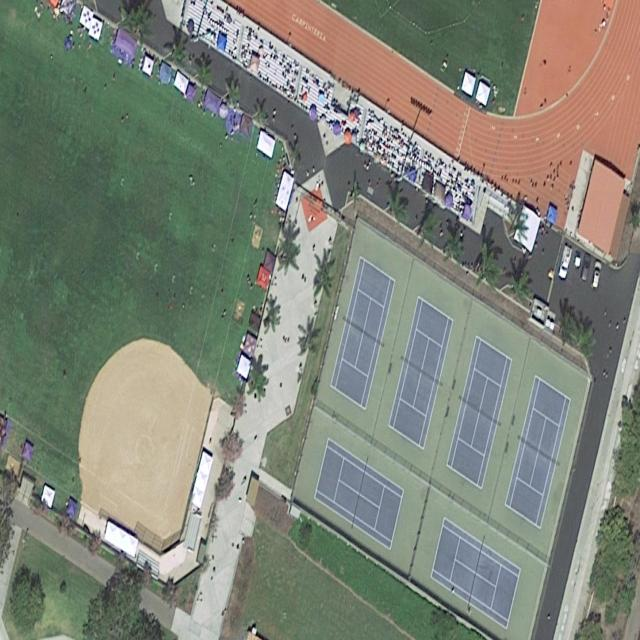large-vehicle: (558, 244, 572, 282)
small-vehicle: (580, 252, 593, 283), (590, 261, 602, 291)
